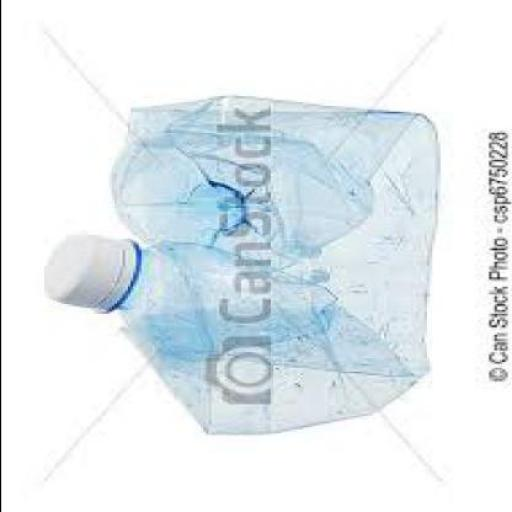plastic: (41, 98, 437, 437), (38, 235, 134, 311)
